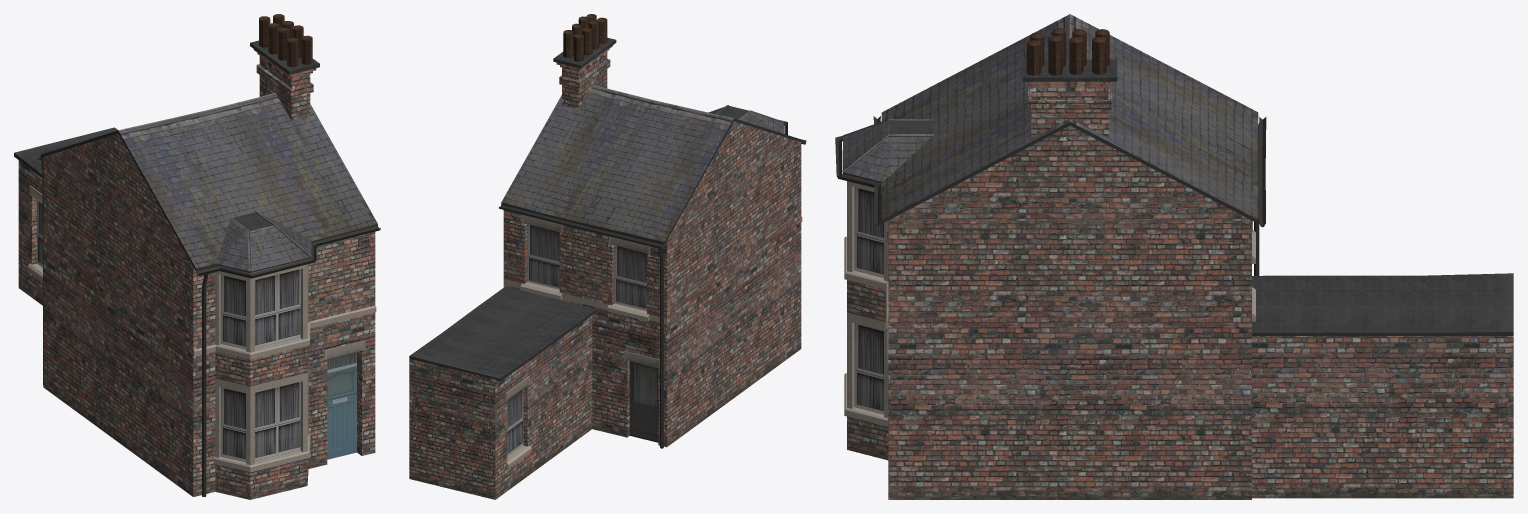
Rendered from ukterracedvictorian11b.FBX.
3 renders of one model, left to right at view 1: azimuth 30°, elevation 25°; view 2: azimuth 150°, elevation 25°; view 3: azimuth 270°, elevation 25°, orthographic. The views are drawn at different scales.
Parts seen in each view (by area): view 1: Object003; view 2: Object003; view 3: Object003.
Boxes of the visible parts, x1,y1,x2,y2 form: Object003: (14, 14, 380, 499); Object003: (409, 14, 806, 499); Object003: (835, 14, 1513, 499).
Bounding box in the file's own units: 561 × 1108 × 1493.
